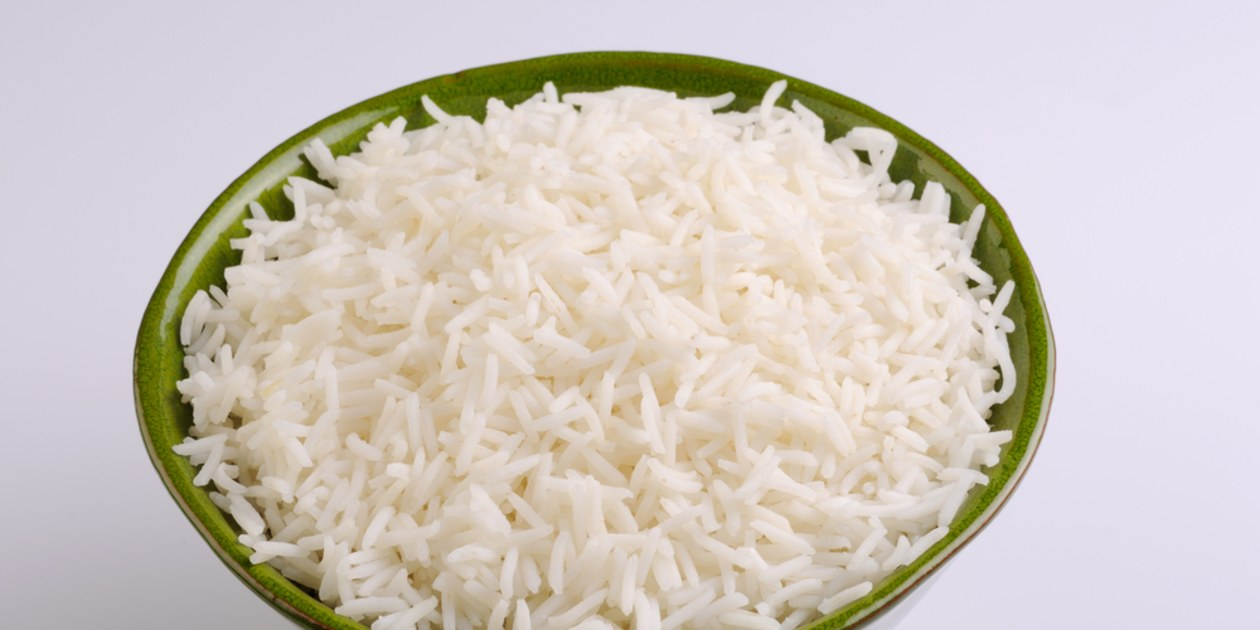rice: (153, 73, 1059, 630)
